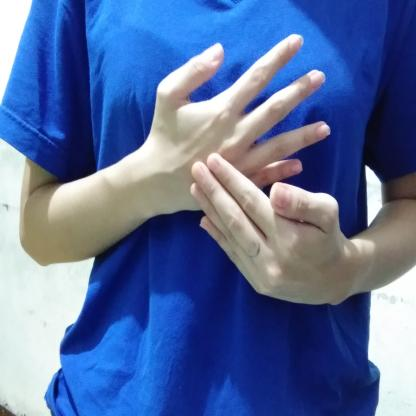thank you: (133, 30, 355, 317)
